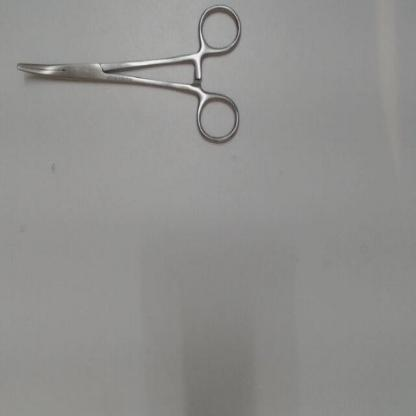Crile Artery Forceps: (13, 3, 252, 154)
